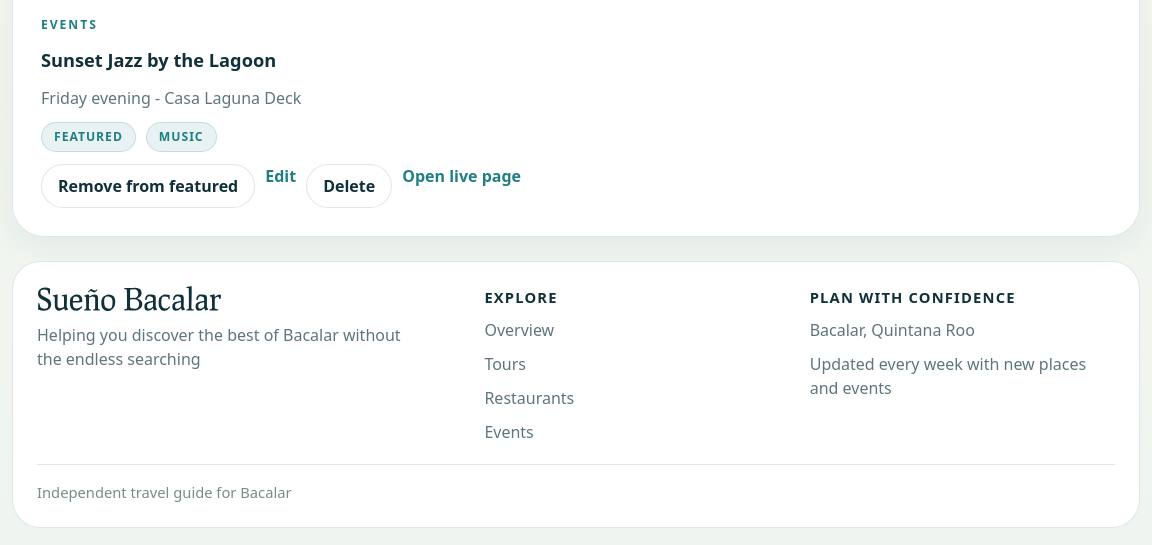
Test: admin access flow › confirms archive actions for published content and refreshes the list
The width and height of the screenshot is (1152, 545).
(page scrolled)
Click the button "Delete" at (349, 186), box x1=306 y1=164 x2=392 y2=208
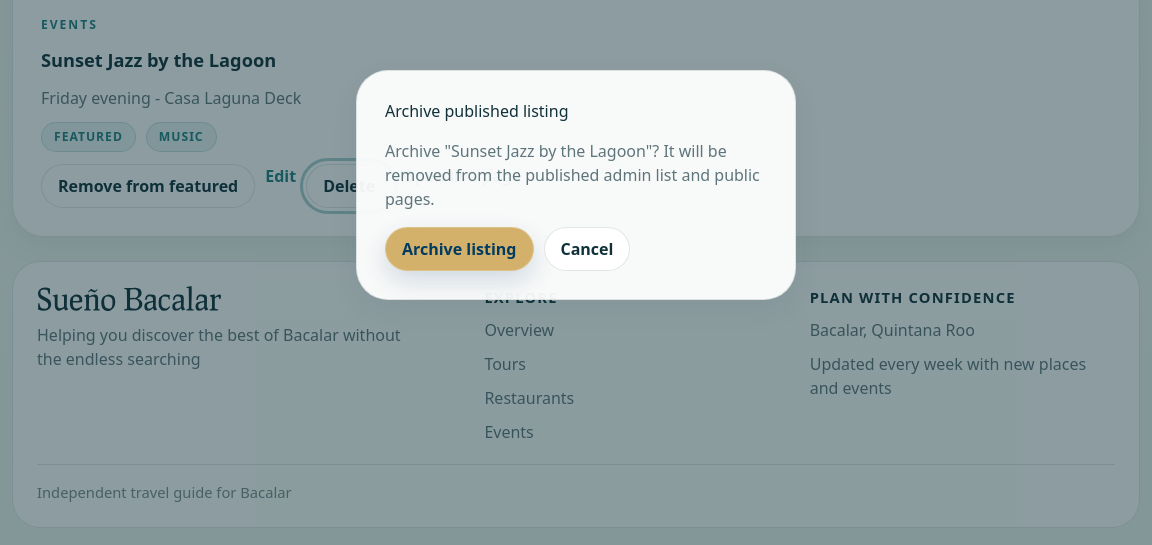
Now the dialog is shown, box x1=356 y1=70 x2=796 y2=300
Click the button "Archive listing" at (459, 249), box x1=385 y1=227 x2=534 y2=271
(page scrolled)
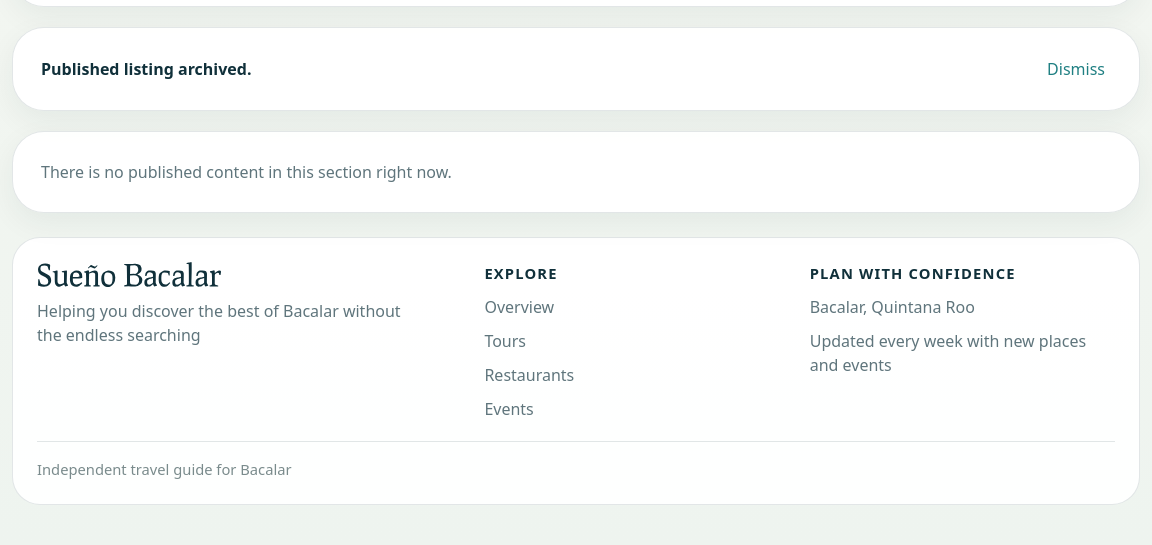
Now the heading "Sunset Jazz by the Lagoon" is gone
Now the text "Published listing archived." is shown, box x1=41 y1=58 x2=252 y2=82
